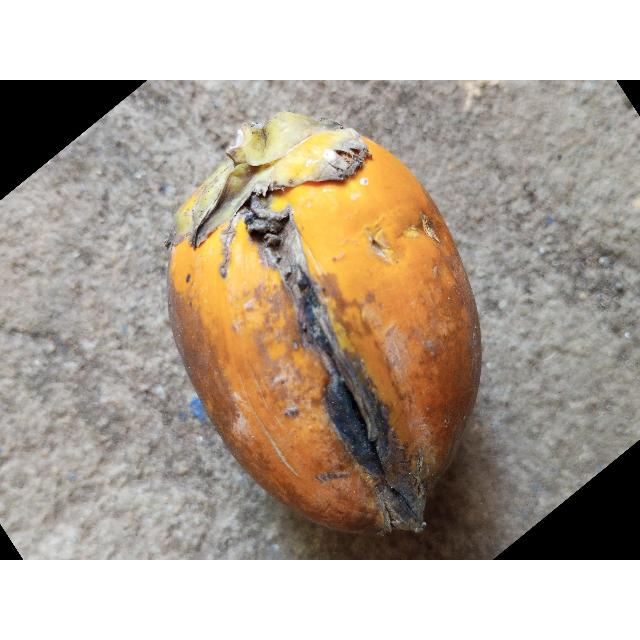damaged: (167, 112, 484, 538)
